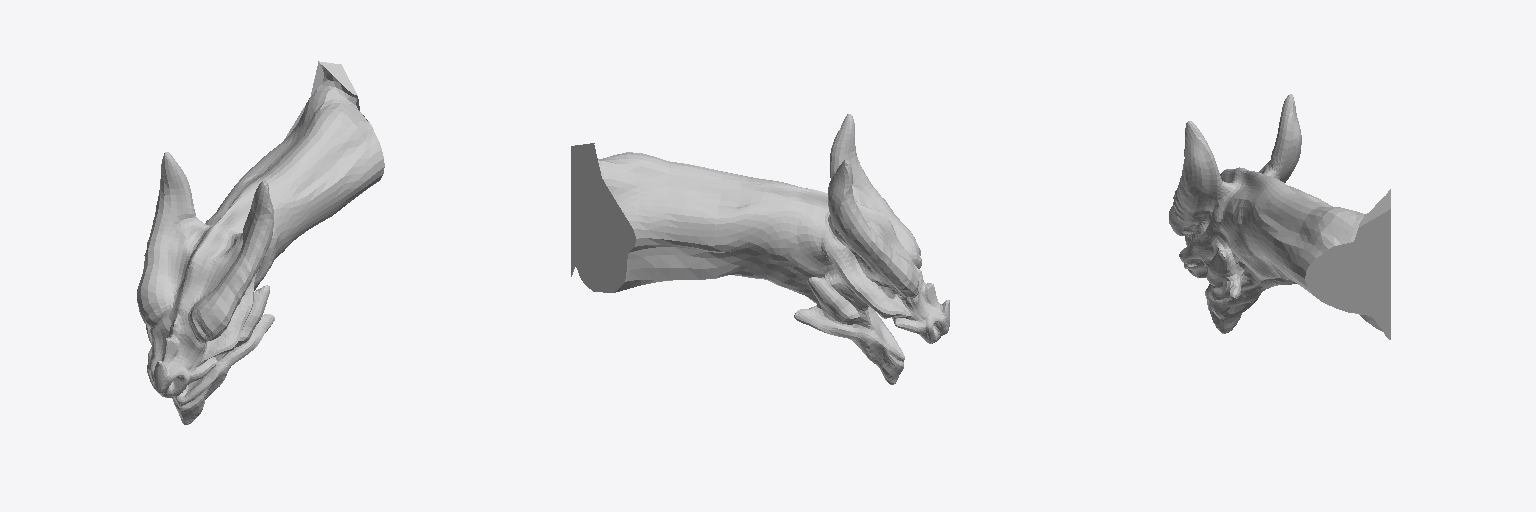
Rendered from cazulsegunda.obj.
The picture shows the model from 3 angles: view 1: azimuth 30°, elevation 25°; view 2: azimuth 150°, elevation 25°; view 3: azimuth 270°, elevation 25°; orthographic projection.
Parts seen in each view (by area): view 1: Ala_Derecha.005; view 2: Ala_Derecha.005; view 3: Ala_Derecha.005.
Part boxes in pixels (x1,y1,x2,y2): Ala_Derecha.005: (137,61,384,424); Ala_Derecha.005: (571,114,949,384); Ala_Derecha.005: (1169,94,1390,339).
Bounding box in the file's own units: 2.59 × 2.19 × 1.77.